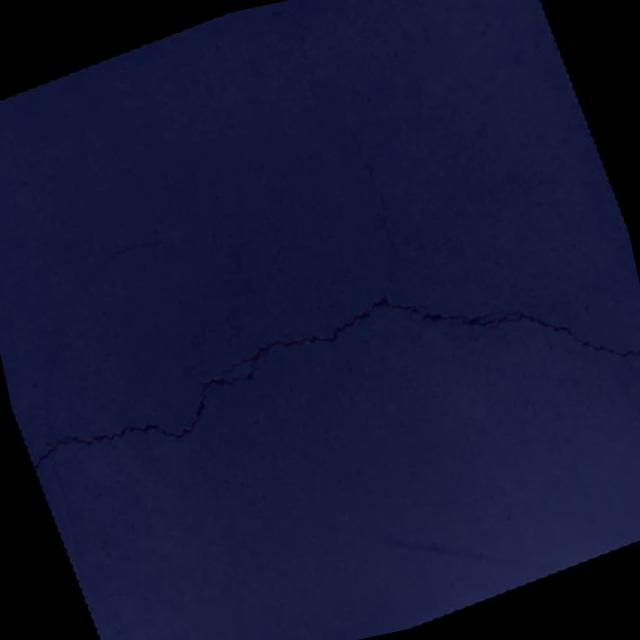crack: (0, 25, 640, 580), (276, 0, 347, 117)
